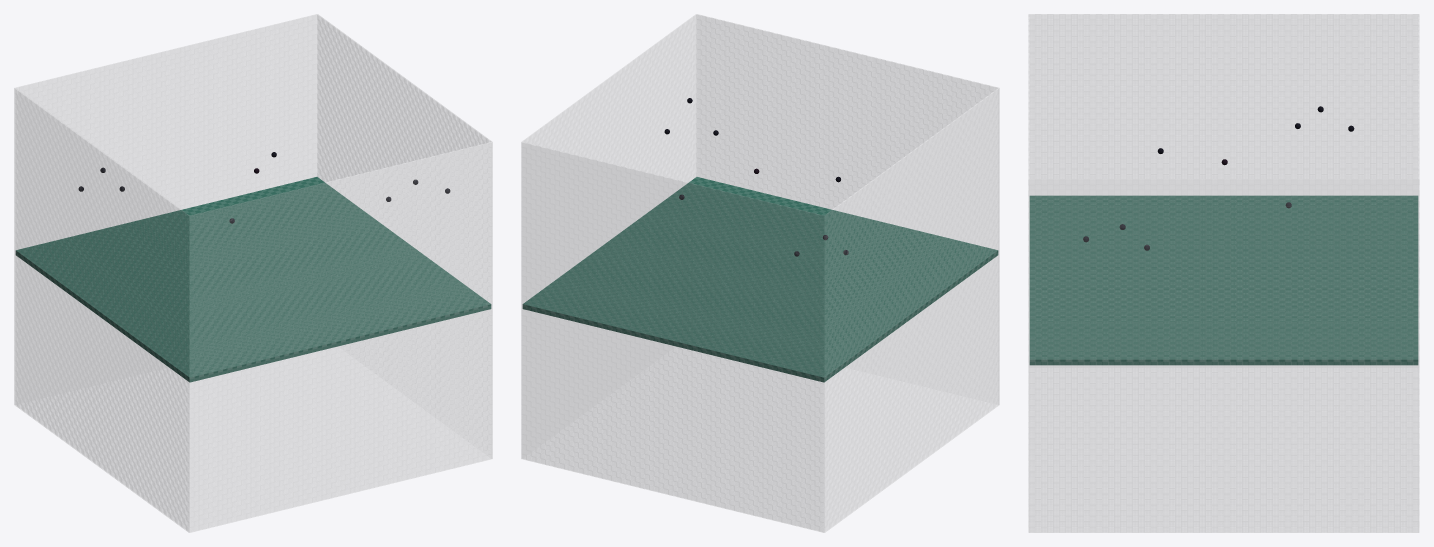
The model's file is That feeling when you feel when you feel you when the when is the feeling when you feel when the fee.obj.
3 renders of one model, left to right at view 1: azimuth 30°, elevation 25°; view 2: azimuth 150°, elevation 25°; view 3: azimuth 270°, elevation 25°, orthographic. The views are drawn at different scales.
Parts seen in each view (by area): view 1: Border22, Border8, Discoplateee1, Border15, Border1; view 2: Border15, Border8, Discoplateee1, Border22, Border1; view 3: Border1, Discoplateee1, Border8.
Part boxes in pixels (x1=…): Border22: x1=190, y1=143, x2=491, y2=532; Border8: x1=15, y1=89, x2=189, y2=531; Discoplateee1: x1=15, y1=177, x2=491, y2=382; Border15: x1=17, y1=14, x2=316, y2=208; Border1: x1=318, y1=15, x2=491, y2=181; Border15: x1=522, y1=143, x2=823, y2=532; Border8: x1=824, y1=89, x2=998, y2=531; Discoplateee1: x1=522, y1=177, x2=998, y2=382; Border22: x1=697, y1=15, x2=996, y2=208; Border1: x1=522, y1=15, x2=695, y2=181; Border1: x1=1029, y1=179, x2=1418, y2=532; Discoplateee1: x1=1029, y1=195, x2=1418, y2=365; Border8: x1=1030, y1=14, x2=1417, y2=178.
Size of the model in its own units: 257 by 256 by 257.
